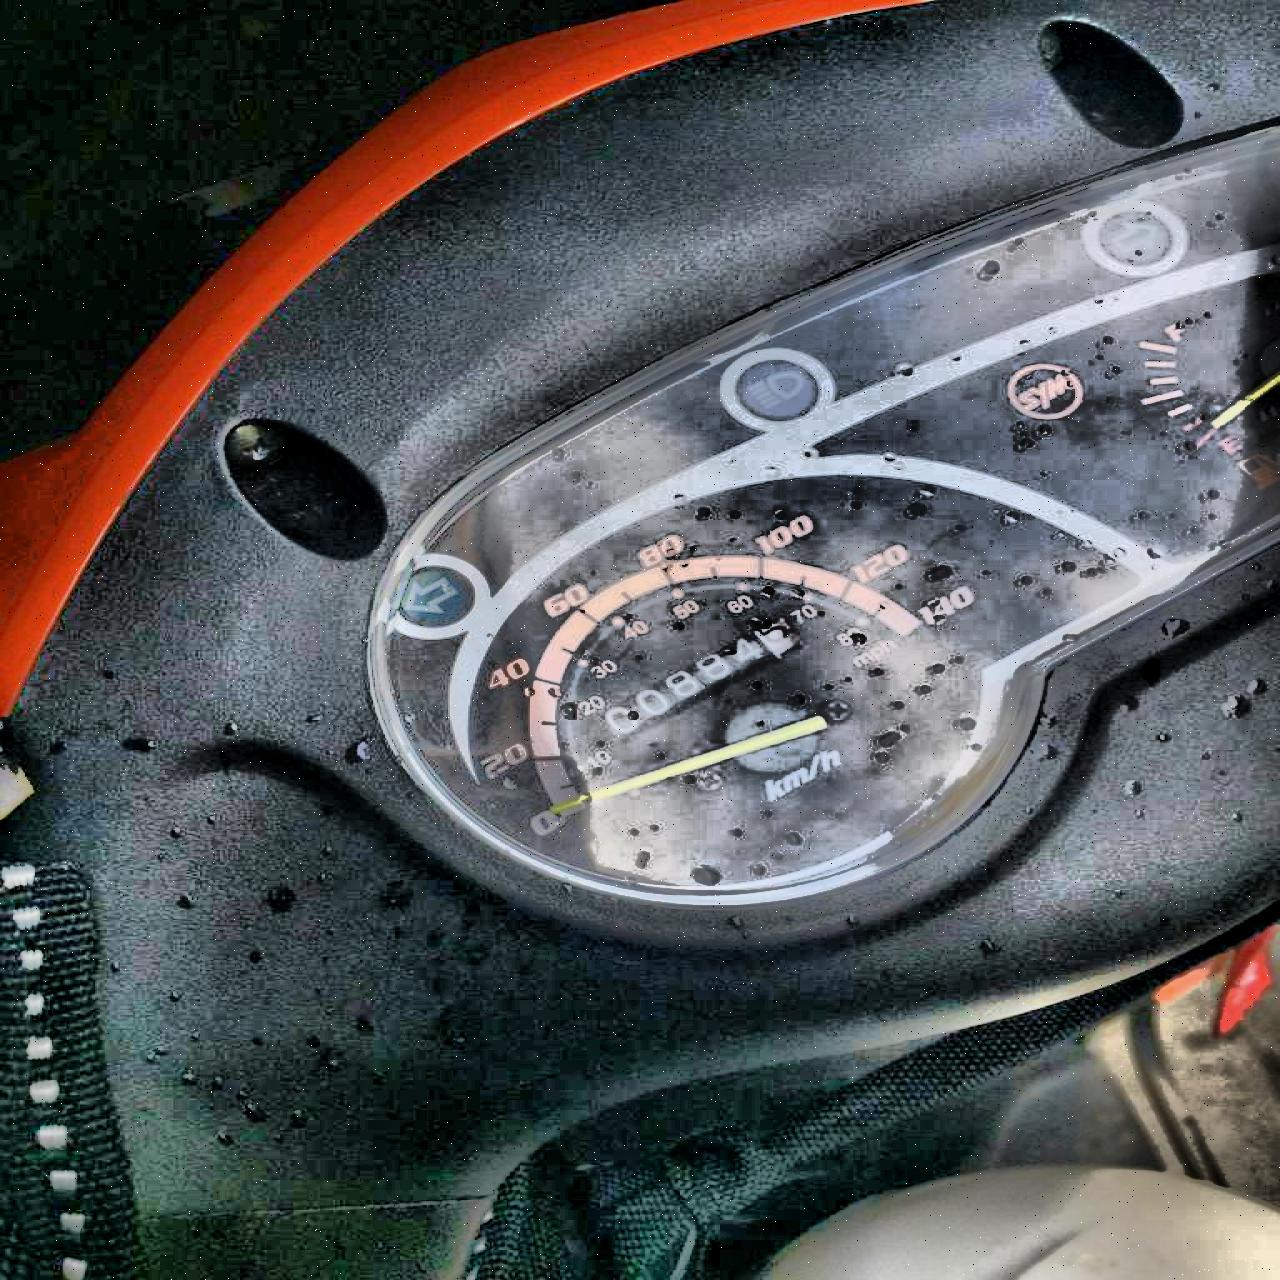0: (633, 686, 668, 716), (600, 706, 635, 733), (600, 659, 615, 673), (586, 694, 601, 708), (632, 619, 645, 633)
3: (590, 663, 604, 678)
4: (734, 635, 762, 662), (621, 624, 635, 638)
6: (755, 619, 788, 641)
8: (692, 651, 727, 680), (663, 669, 695, 696)
odometer: (584, 613, 809, 745)
